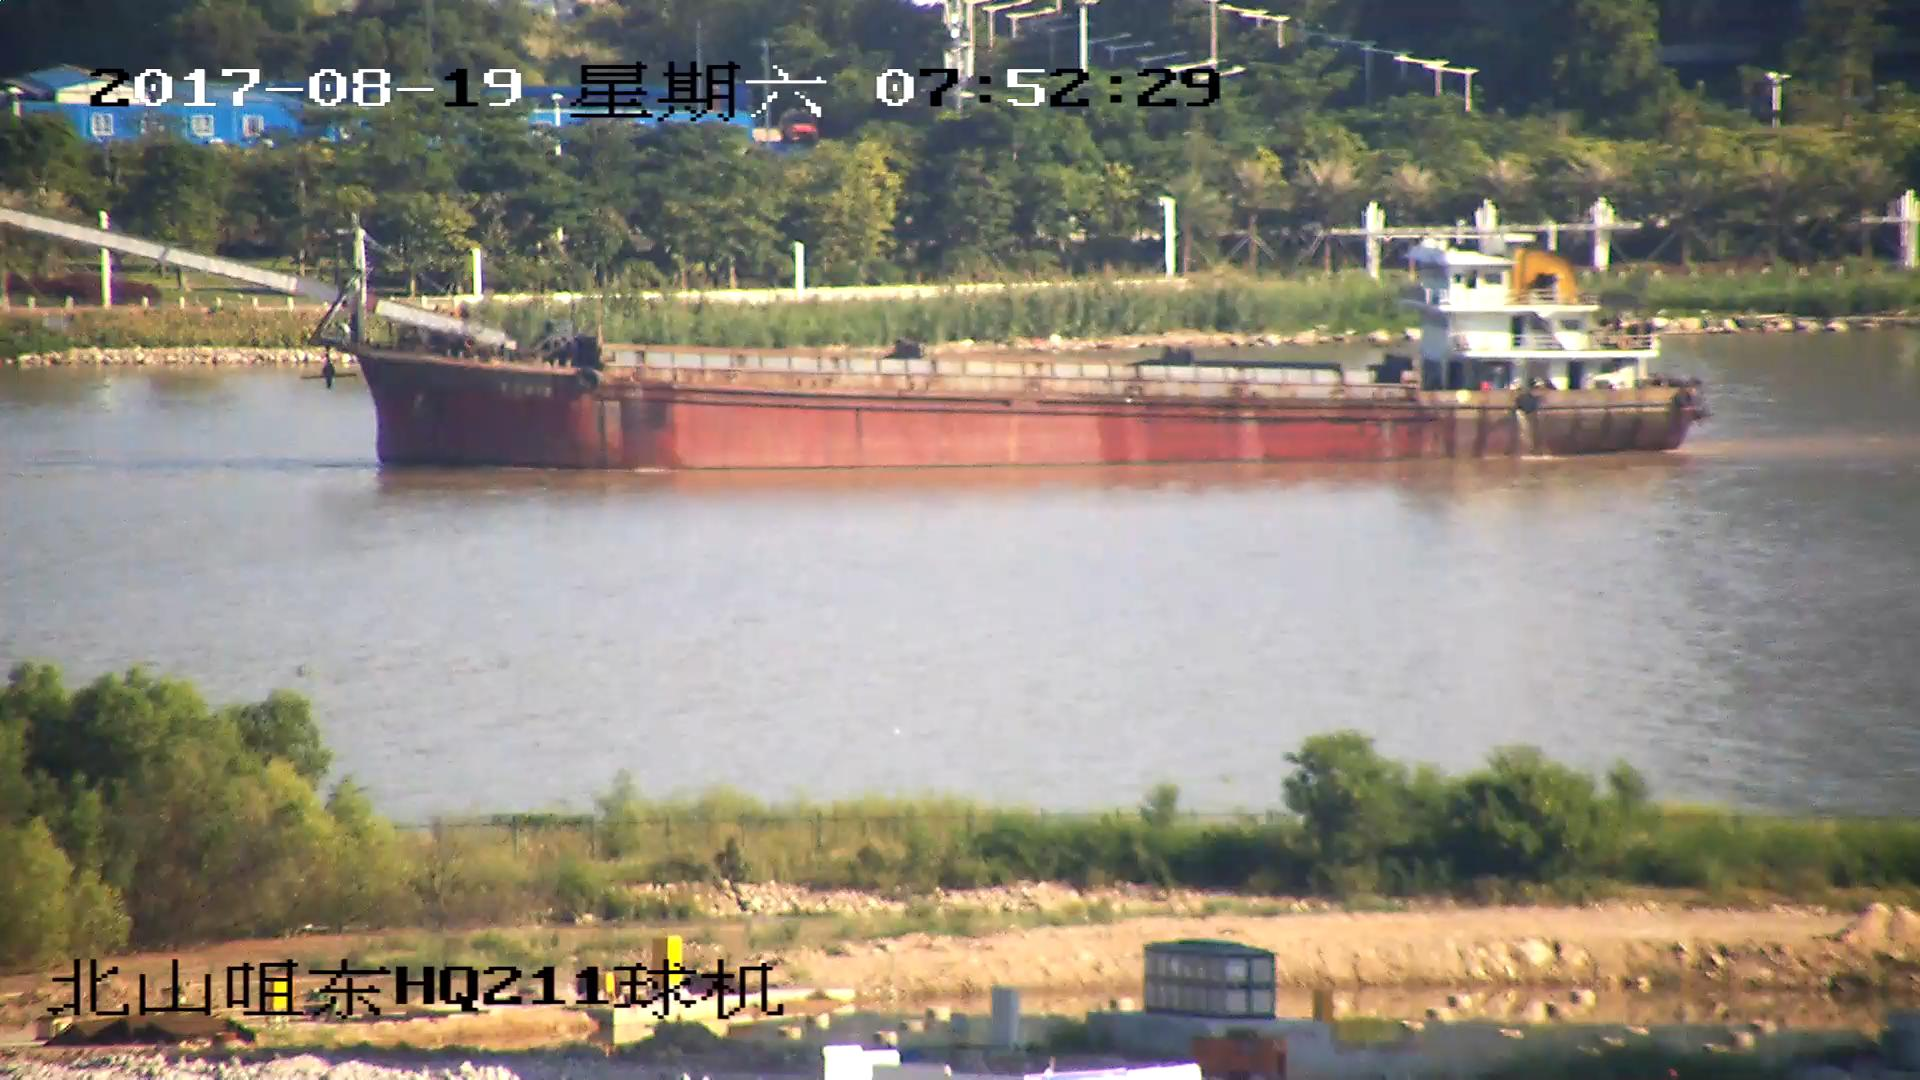bulk cargo carrier: (1, 201, 1711, 470)
